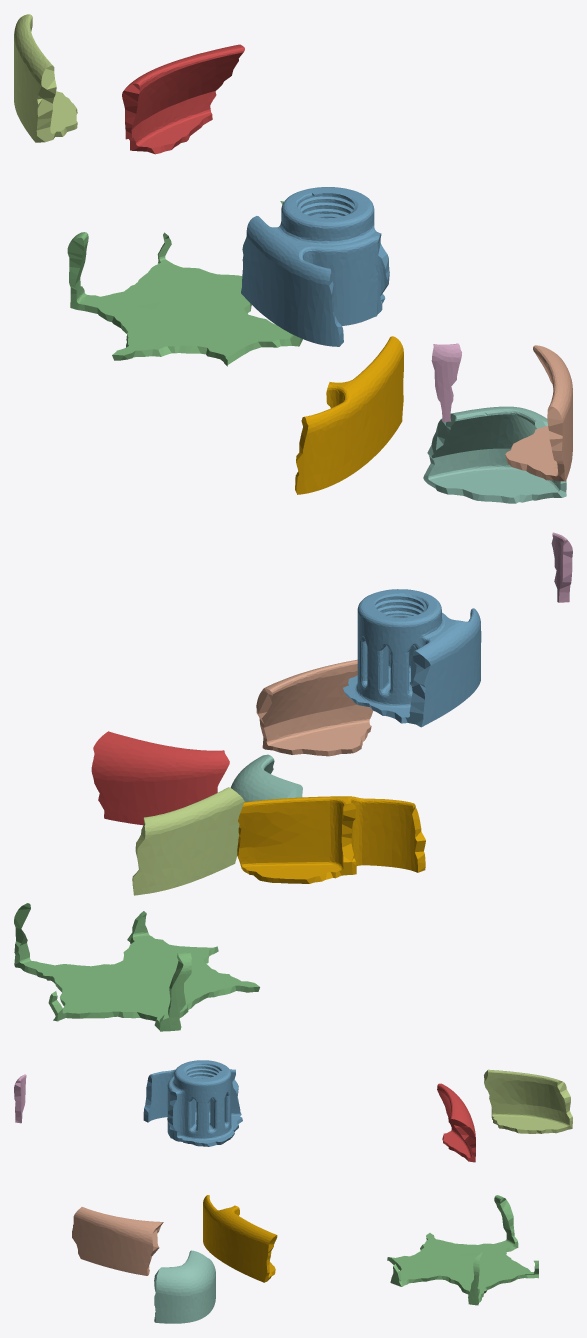
Rendered from mode_7_8pcs_transformed.glb.
The picture shows the model from 3 angles, top to bottom: view 1: azimuth 30°, elevation 25°; view 2: azimuth 150°, elevation 25°; view 3: azimuth 270°, elevation 25°; orthographic projection. The views are drawn at different scales.
Visible parts, largest first — view 1: piece_2.obj, piece_3.obj, piece_0.obj, piece_4.obj, piece_1.obj, piece_5.obj, piece_7.obj, piece_6.obj; view 2: piece_2.obj, piece_0.obj, piece_3.obj, piece_1.obj, piece_7.obj, piece_5.obj, piece_4.obj, piece_6.obj; view 3: piece_2.obj, piece_3.obj, piece_5.obj, piece_7.obj, piece_0.obj, piece_4.obj, piece_1.obj, piece_6.obj.
Part boxes in pixels (left/top/right/bottom): piece_2.obj: left=241, top=187, right=389, bottom=346; piece_3.obj: left=67, top=201, right=302, bottom=366; piece_0.obj: left=295, top=336, right=403, bottom=494; piece_4.obj: left=423, top=406, right=566, bottom=503; piece_1.obj: left=122, top=44, right=244, bottom=154; piece_5.obj: left=14, top=14, right=77, bottom=142; piece_7.obj: left=505, top=345, right=572, bottom=481; piece_6.obj: left=431, top=343, right=461, bottom=421; piece_2.obj: left=343, top=589, right=481, bottom=727; piece_0.obj: left=237, top=796, right=425, bottom=883; piece_3.obj: left=14, top=903, right=259, bottom=1031; piece_1.obj: left=91, top=731, right=229, bottom=825; piece_7.obj: left=256, top=659, right=372, bottom=756; piece_5.obj: left=132, top=787, right=244, bottom=895; piece_4.obj: left=230, top=754, right=302, bottom=802; piece_6.obj: left=551, top=532, right=572, bottom=602; piece_2.obj: left=143, top=1060, right=242, bottom=1146; piece_3.obj: left=387, top=1195, right=538, bottom=1305; piece_5.obj: left=484, top=1069, right=572, bottom=1133; piece_7.obj: left=72, top=1207, right=163, bottom=1275; piece_0.obj: left=203, top=1195, right=277, bottom=1282; piece_4.obj: left=154, top=1250, right=215, bottom=1323; piece_1.obj: left=437, top=1083, right=475, bottom=1162; piece_6.obj: left=14, top=1074, right=26, bottom=1123.
Size of the model in its own units: 0.8951 by 1.01 by 2.66.
